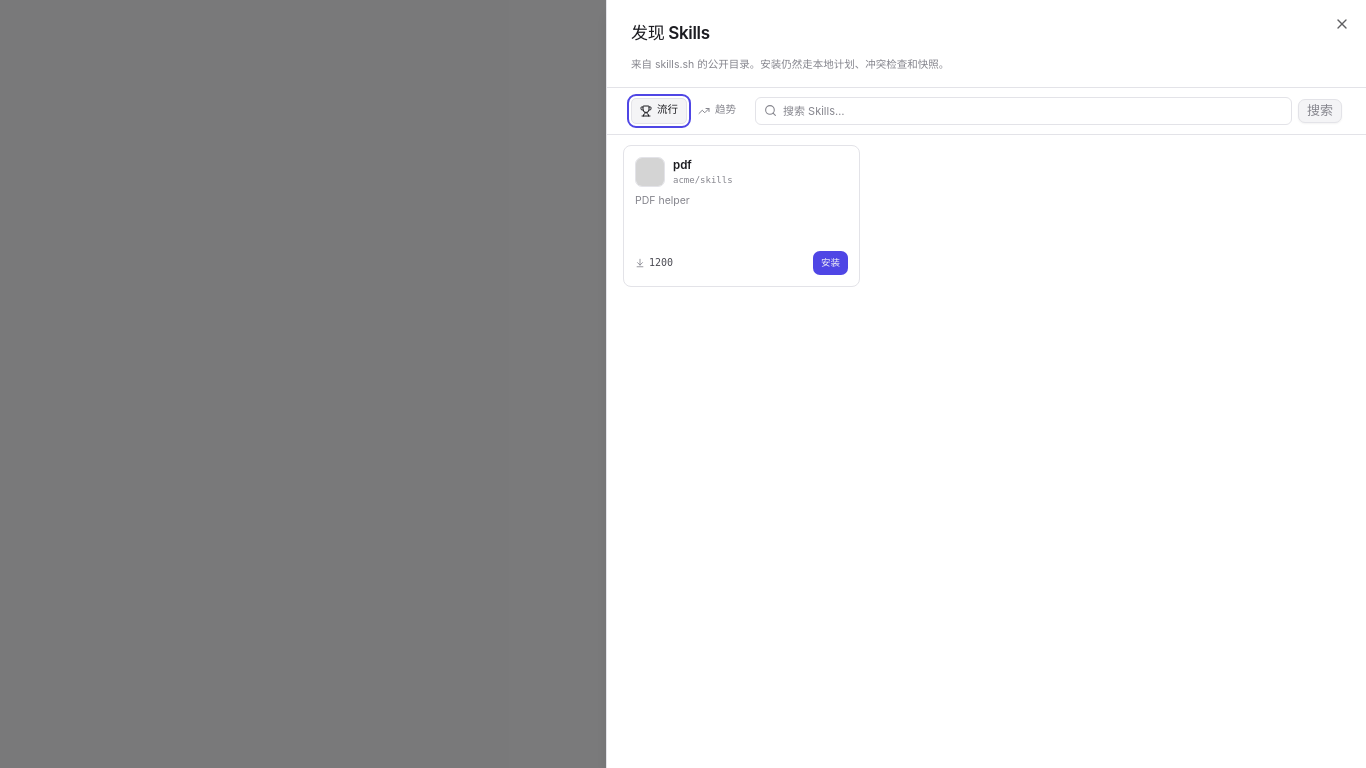
Test case: only accepts the latest search response
Step 1. Type "aa" into the field labelled "搜索 Skills" → (1033, 110), box [783,98,1283,124]
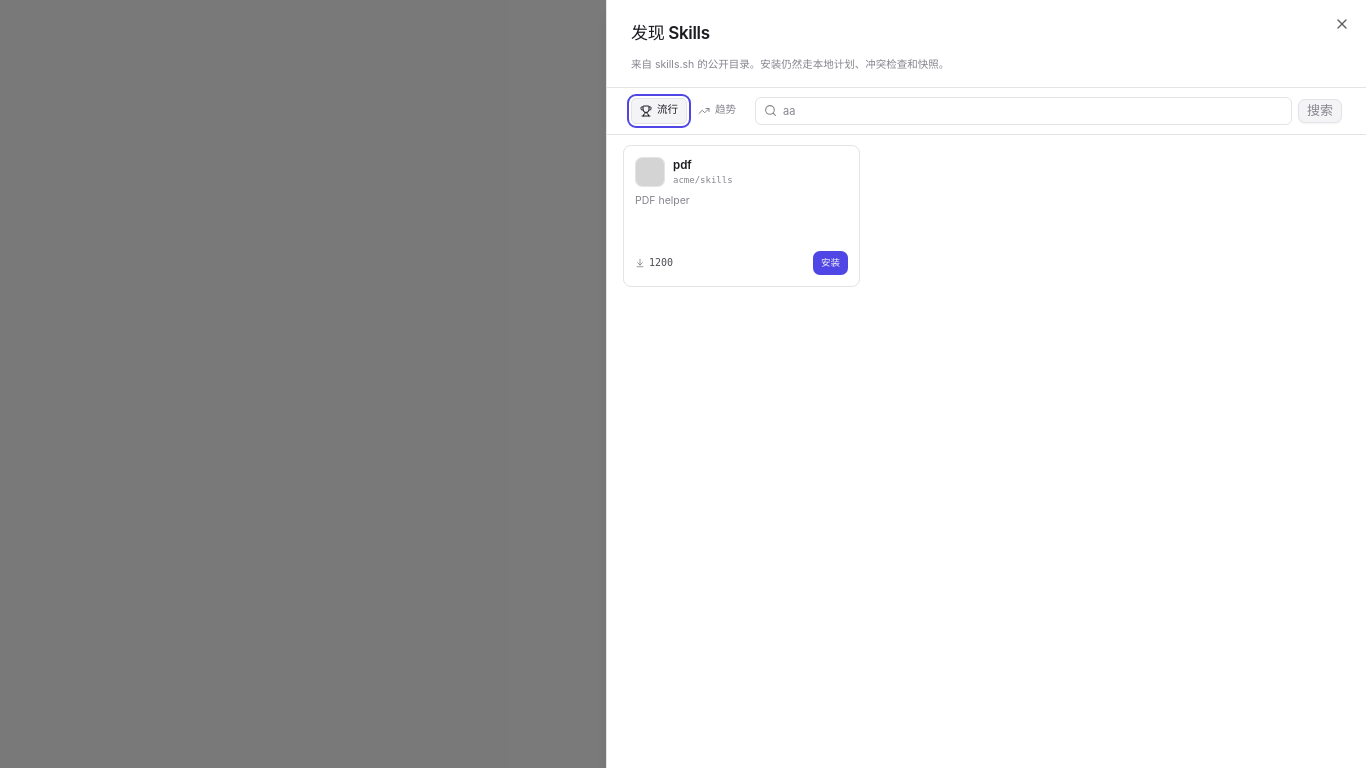
Step 2. Submit the form named "搜索 Skills", box [755,96,1342,124]
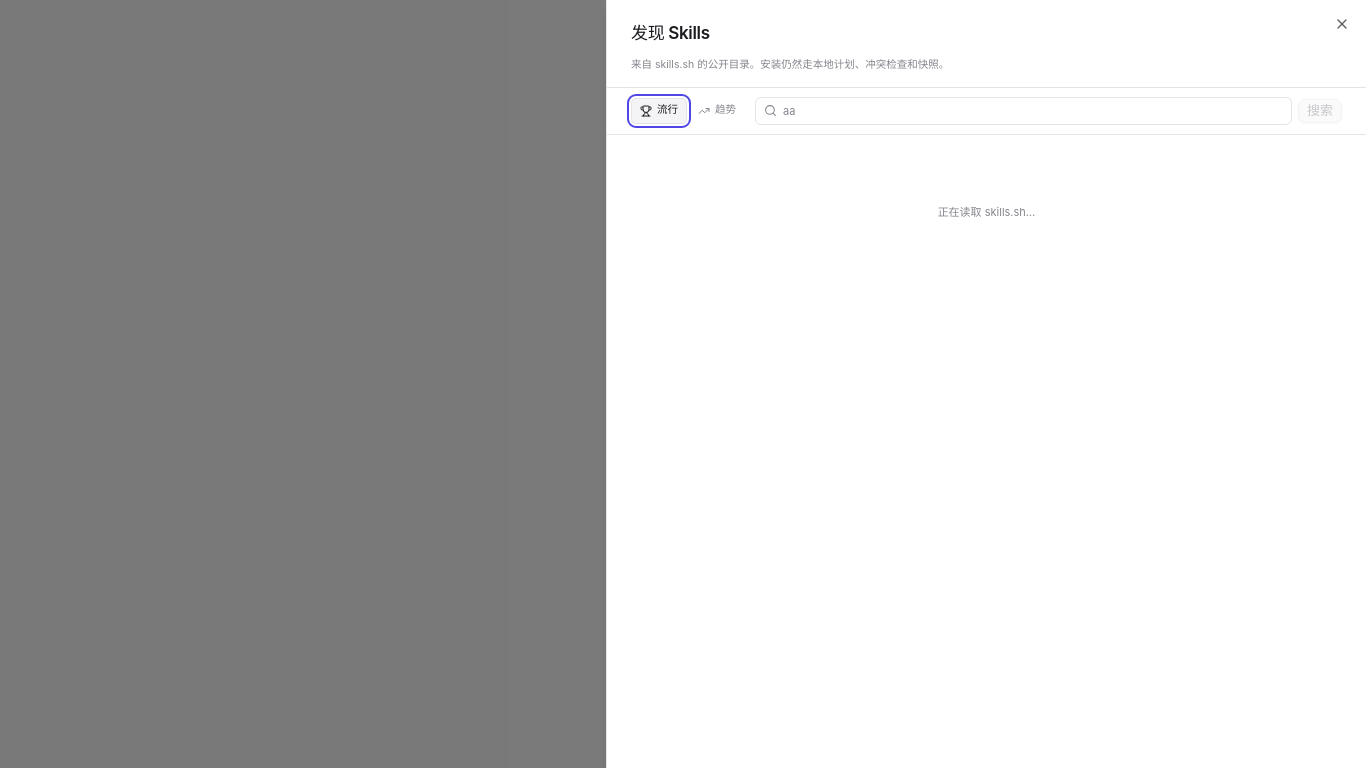
Step 3. Replace the text in the field named "搜索 Skills" with "bb" → (1033, 110), box [783,98,1283,124]
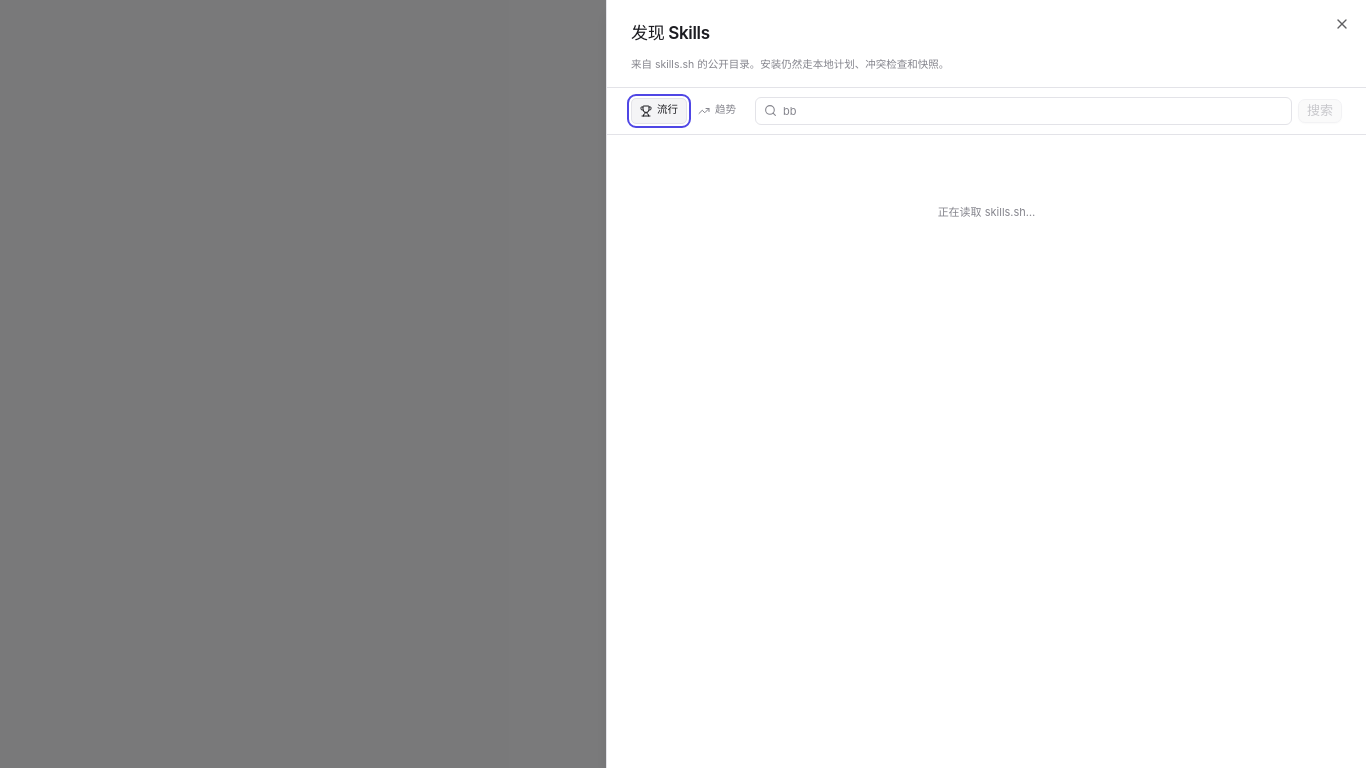
Step 4. Submit the form named "搜索 Skills", box [755,96,1342,124]
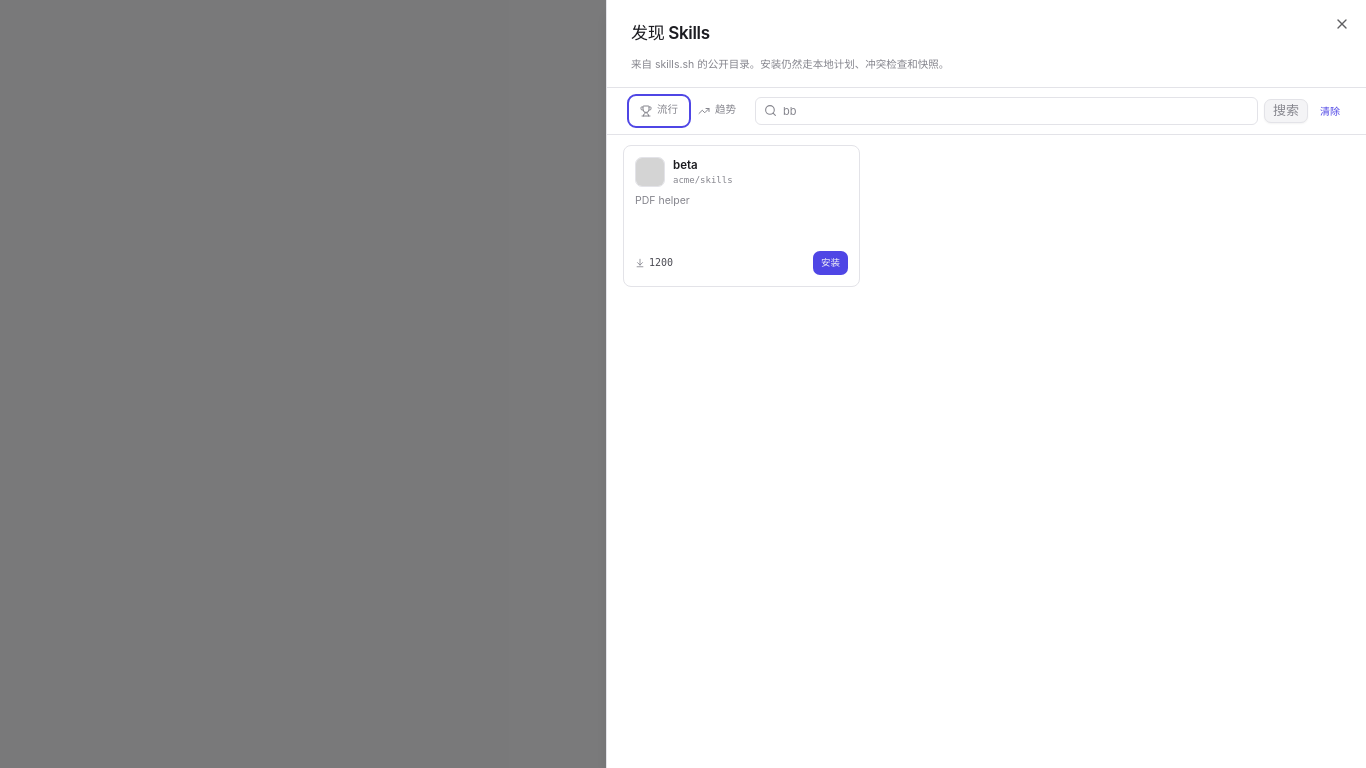
Check: the text "beta" is shown, box [673,158,698,172]
